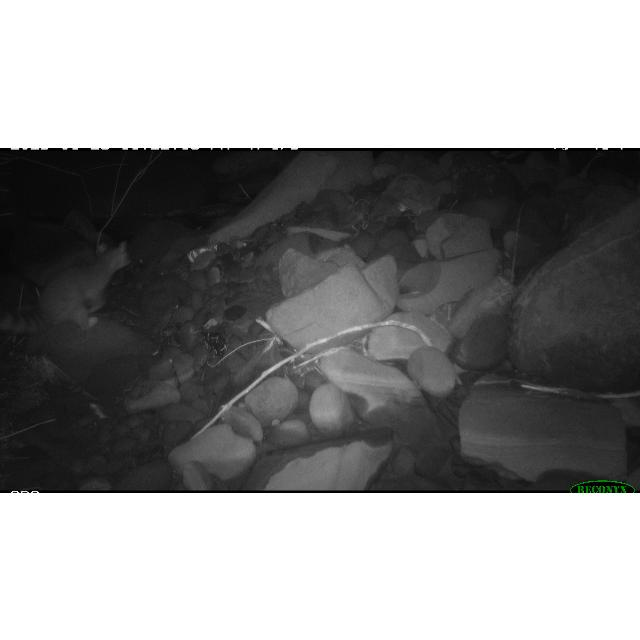animals: (36, 238, 132, 329)
